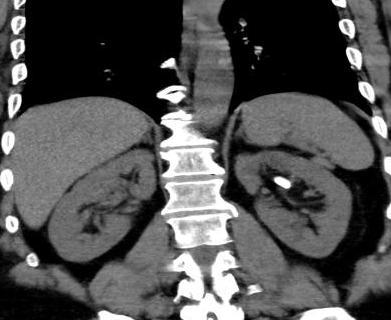Tas_Var: (272, 176, 295, 192)
